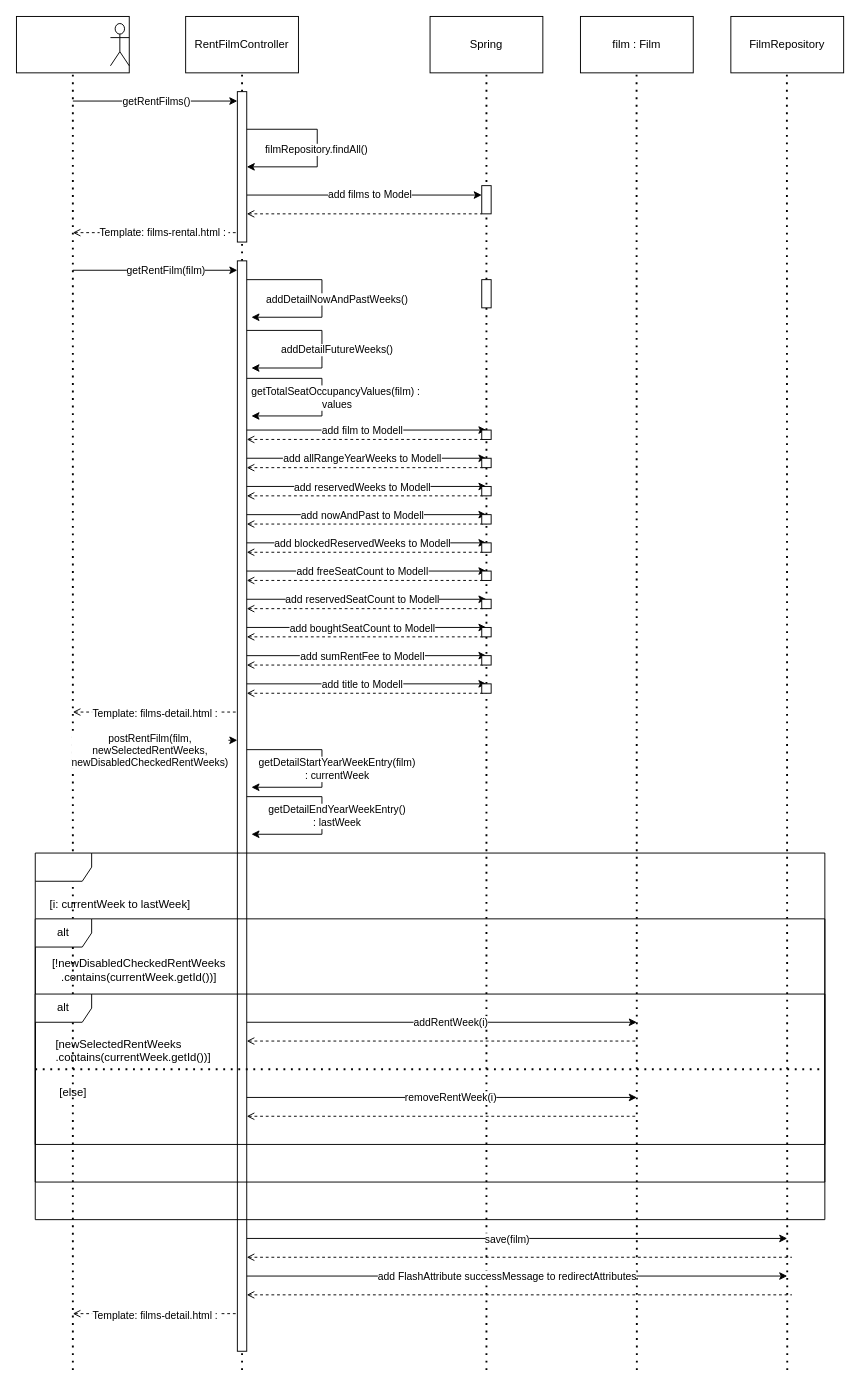
Some shapes in this 860 by 1388 pixel diagram are drawn without their labels. Here are the shapes that lost their labels. From the top down, the box of each, then its label:
(16, 16, 129, 73): Authorized Worker
(34, 852, 825, 1220): loop
